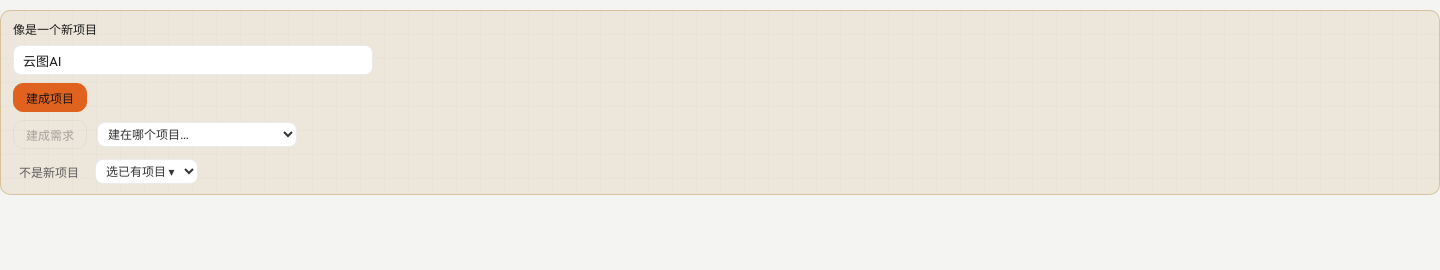
AttributionBar 等待与像新项目 › 完全同名时只问是不是它，没有［仍然新建］
Click the button "建成项目" at coordinates (50, 98), box [13, 83, 87, 112]
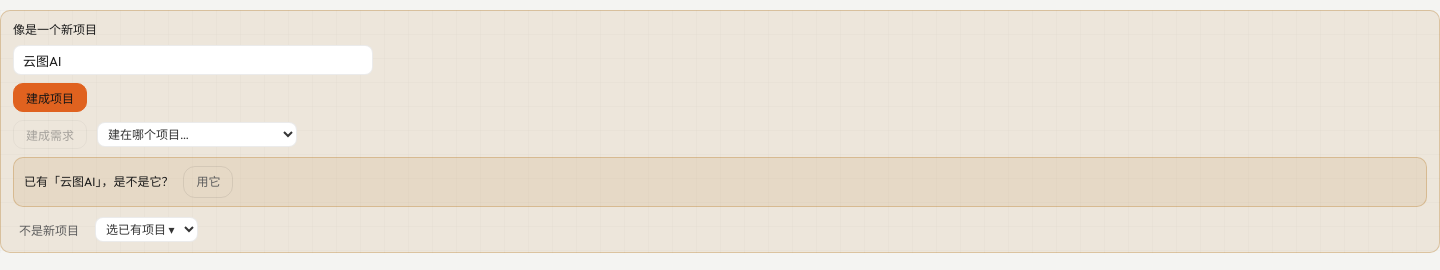
Now the text "已有「云图AI」，是不是它？" is shown, box [24, 173, 173, 191]
Now the button "用它" is shown, box [183, 166, 233, 198]
